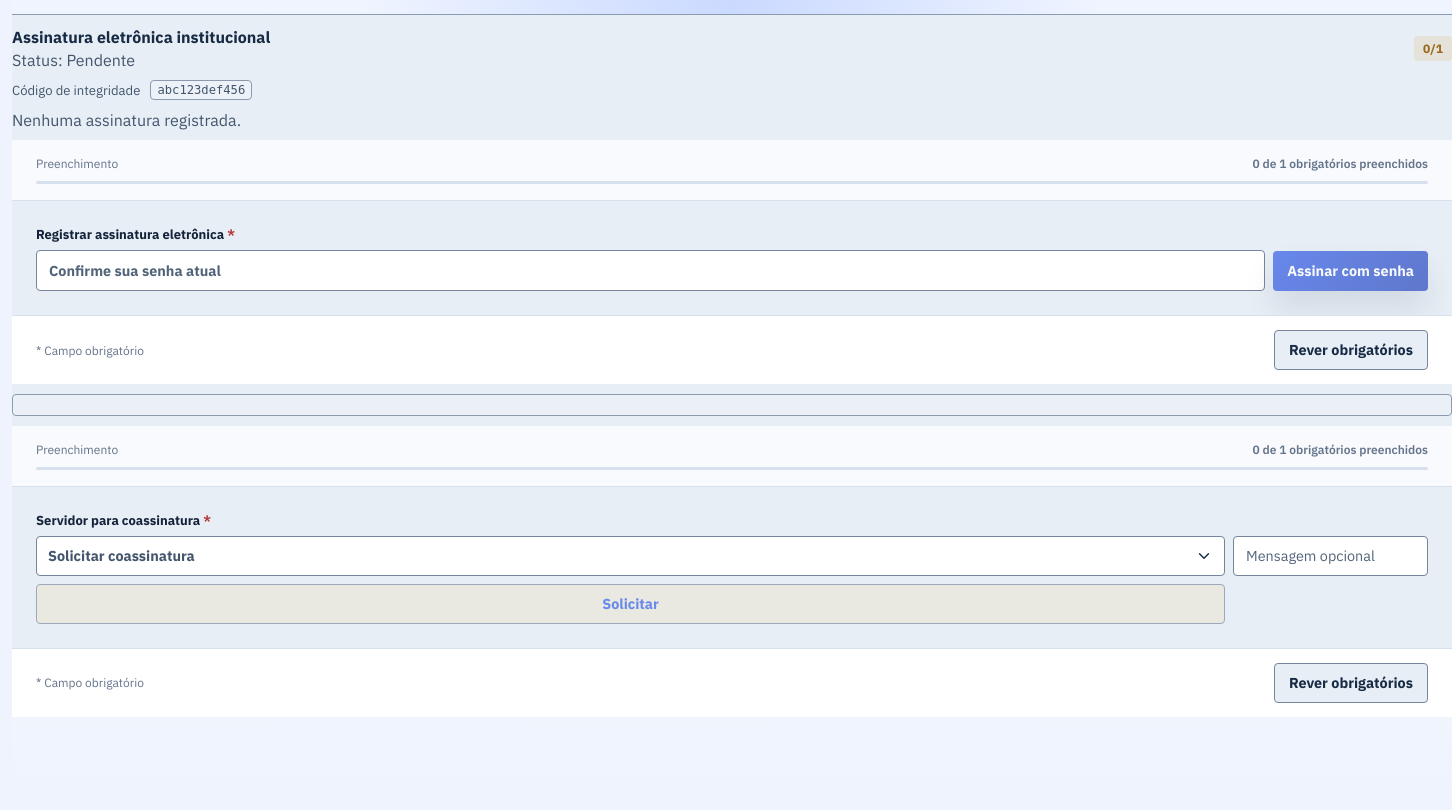
Test: DocumentSignaturePanel › confirma a assinatura com senha e impede nova assinatura do mesmo usuário
Type "senha-segura" into the password field labelled "Registrar assinatura eletrônica" at x=651, y=270, box [36, 250, 1265, 291]
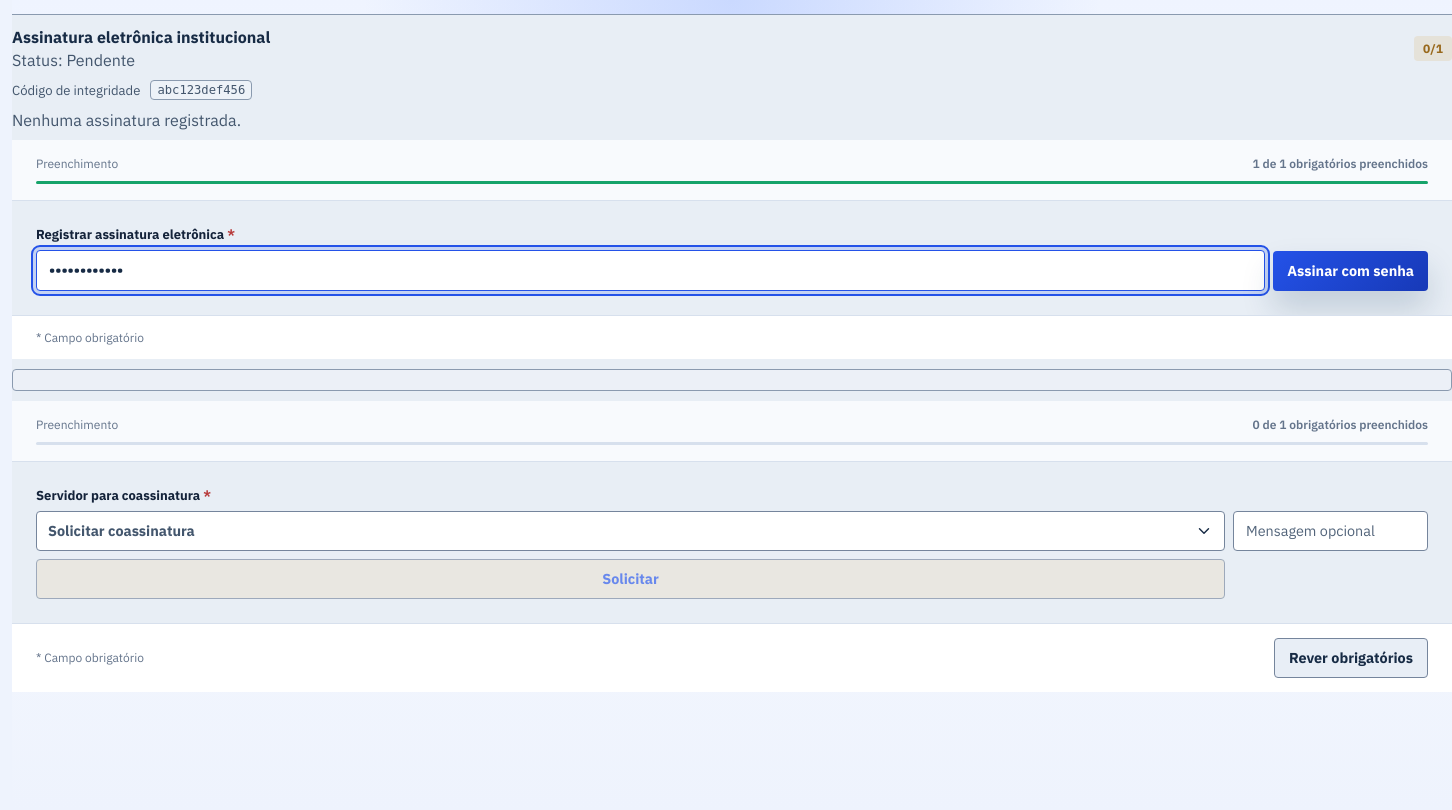
Click the button "Assinar com senha" at x=1351, y=271, box [1273, 251, 1428, 291]
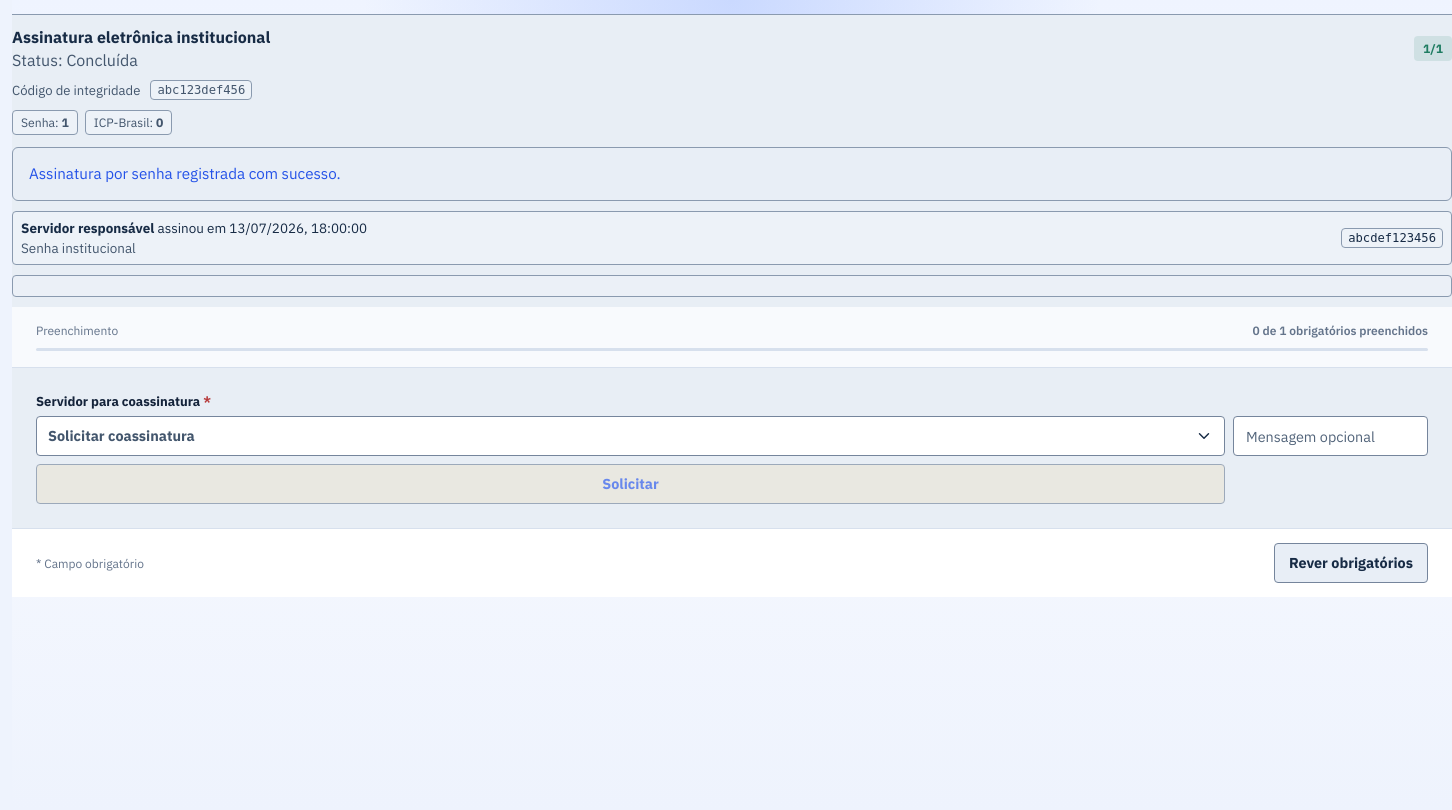
Expected: the text labelled "Registrar assinatura eletrônica" is gone
